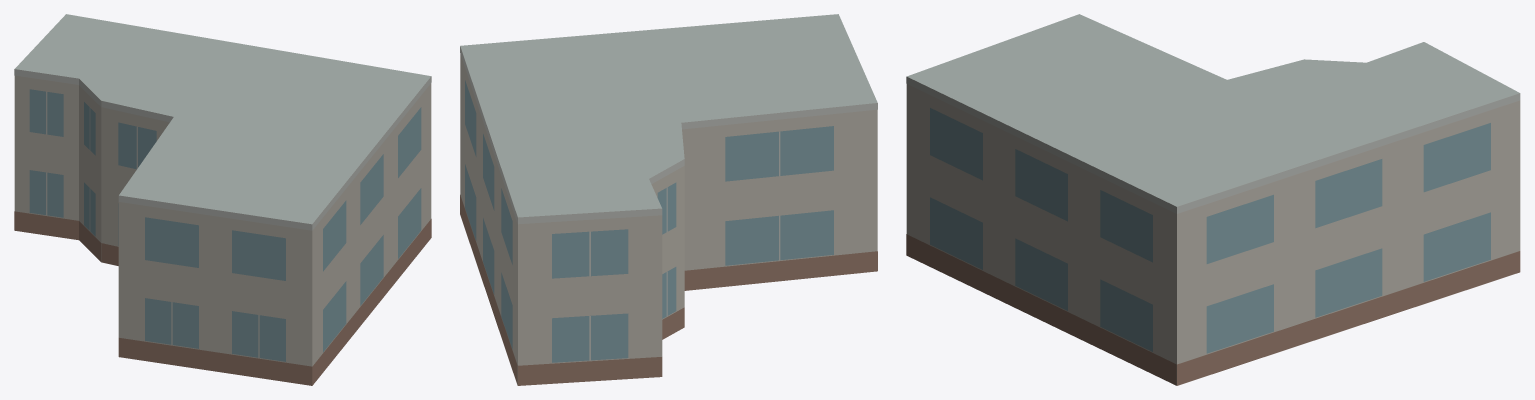
The model's file is survey-upis-32882392.glb.
The picture shows the model from 3 angles, left to right: view 1: azimuth 30°, elevation 25°; view 2: azimuth 150°, elevation 25°; view 3: azimuth 270°, elevation 25°; orthographic projection. The views are drawn at different scales.
Parts seen in each view (by area): view 1: survey-upis-32882392.tmp; view 2: survey-upis-32882392.tmp; view 3: survey-upis-32882392.tmp.
Part boxes in pixels (box(x1,y1,x2,y2)): survey-upis-32882392.tmp: box(14, 14, 431, 385); survey-upis-32882392.tmp: box(460, 14, 877, 385); survey-upis-32882392.tmp: box(906, 14, 1520, 385).
Size of the model in its own units: 14.1 by 6.1 by 18.96.
